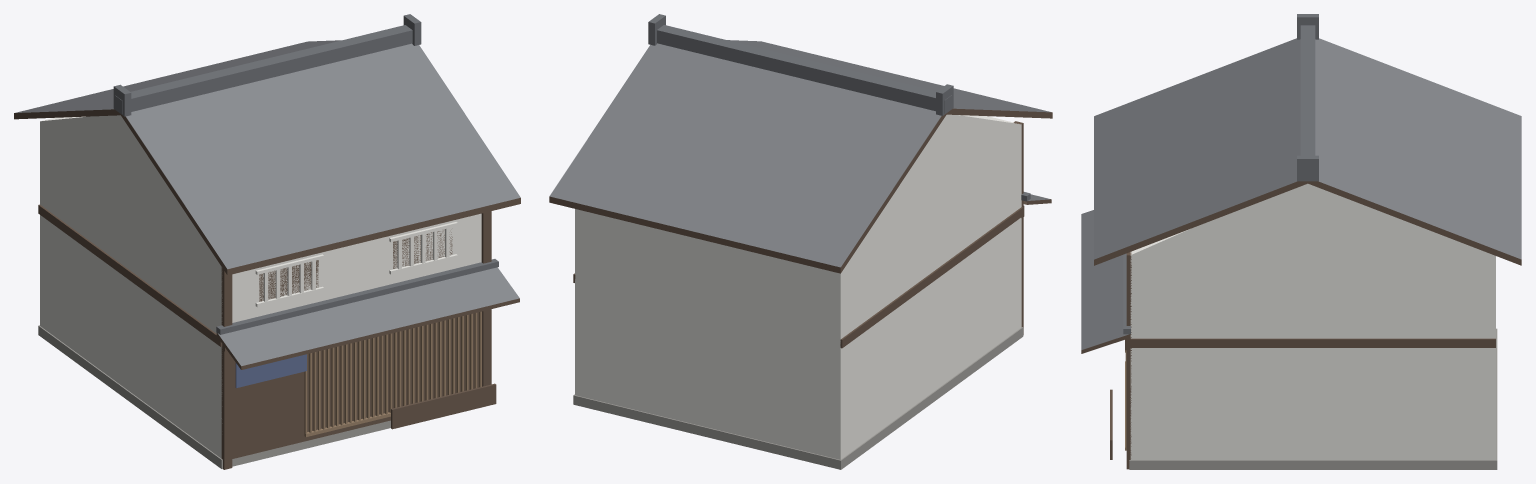
The model's file is HK_Machiya_A.glb.
The picture shows the model from 3 angles, left to right: view 1: azimuth 30°, elevation 25°; view 2: azimuth 150°, elevation 25°; view 3: azimuth 270°, elevation 25°; orthographic projection.
Visible parts, largest first — view 1: HK_Machiya_A; view 2: HK_Machiya_A; view 3: HK_Machiya_A.
Boxes of the visible parts, box(x1,y1,x2,y2) form: HK_Machiya_A: box(14, 14, 520, 469); HK_Machiya_A: box(549, 14, 1052, 469); HK_Machiya_A: box(1081, 14, 1521, 469).
Size of the model in its own units: 8 by 8.15 by 10.25.
